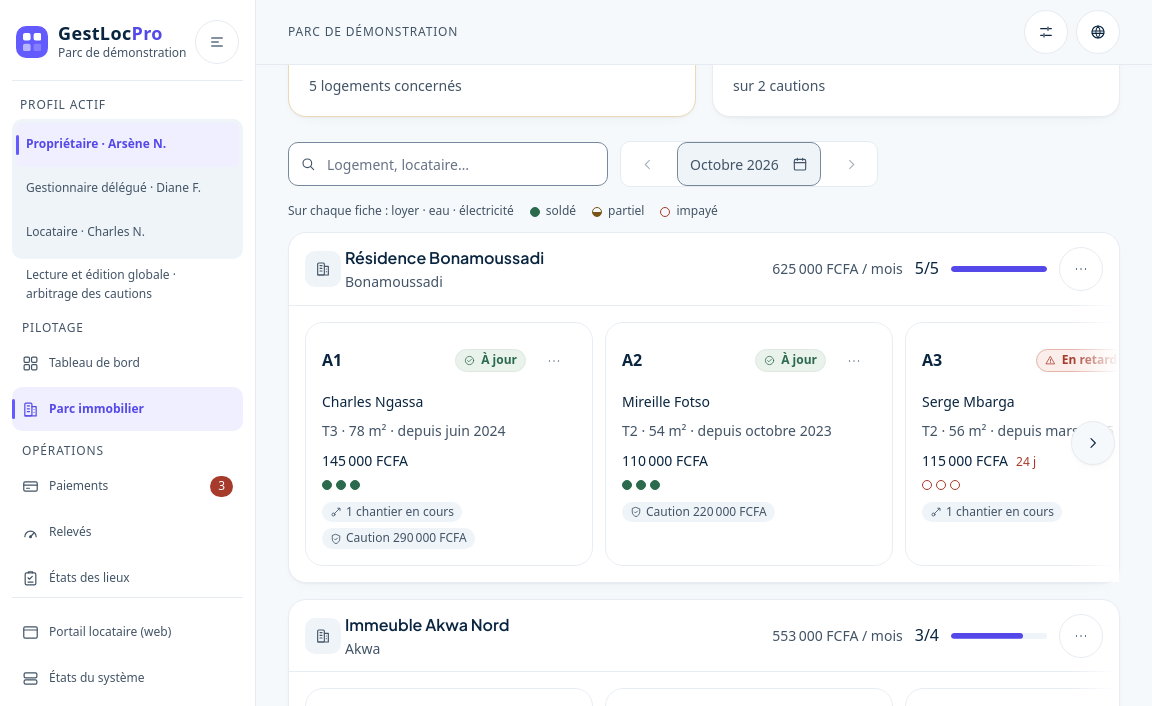
Test: le numéro d’un logement › refuse un numéro déjà pris À LA CORRECTION, sans aller-retour
(page scrolled)
Click the button named "Actions du logement A1": (554, 360) [532,338,576,382]
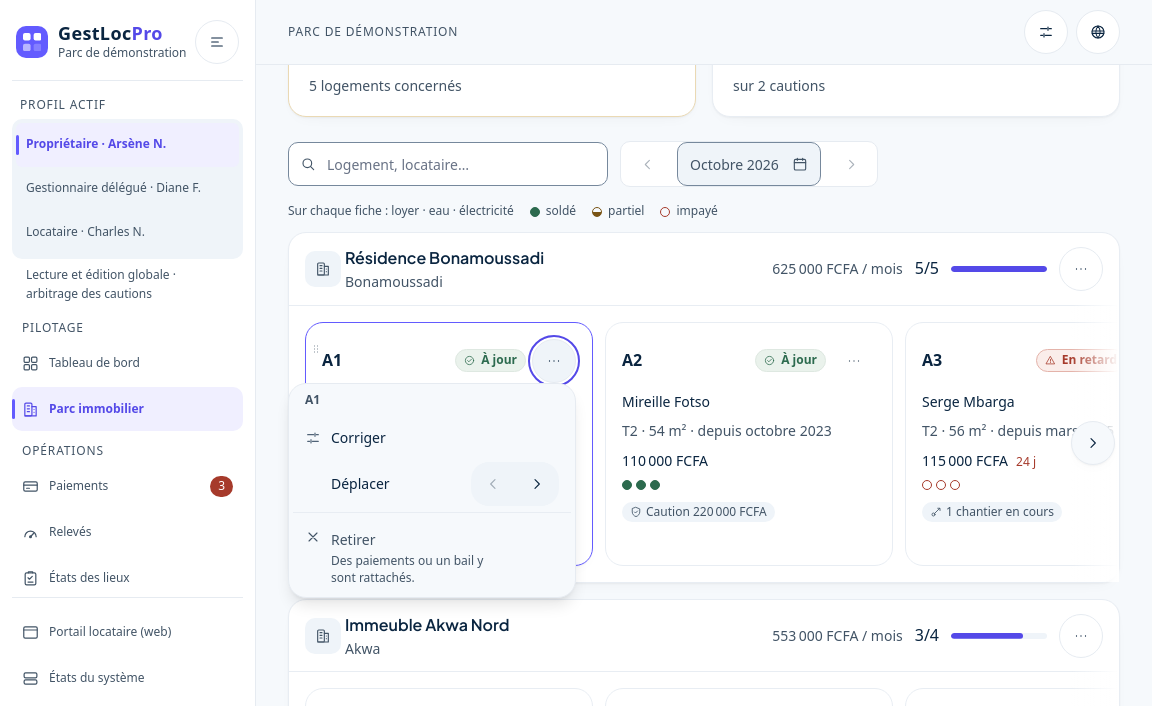
Click the menu item "Corriger": (358, 438) [293,416,571,460]
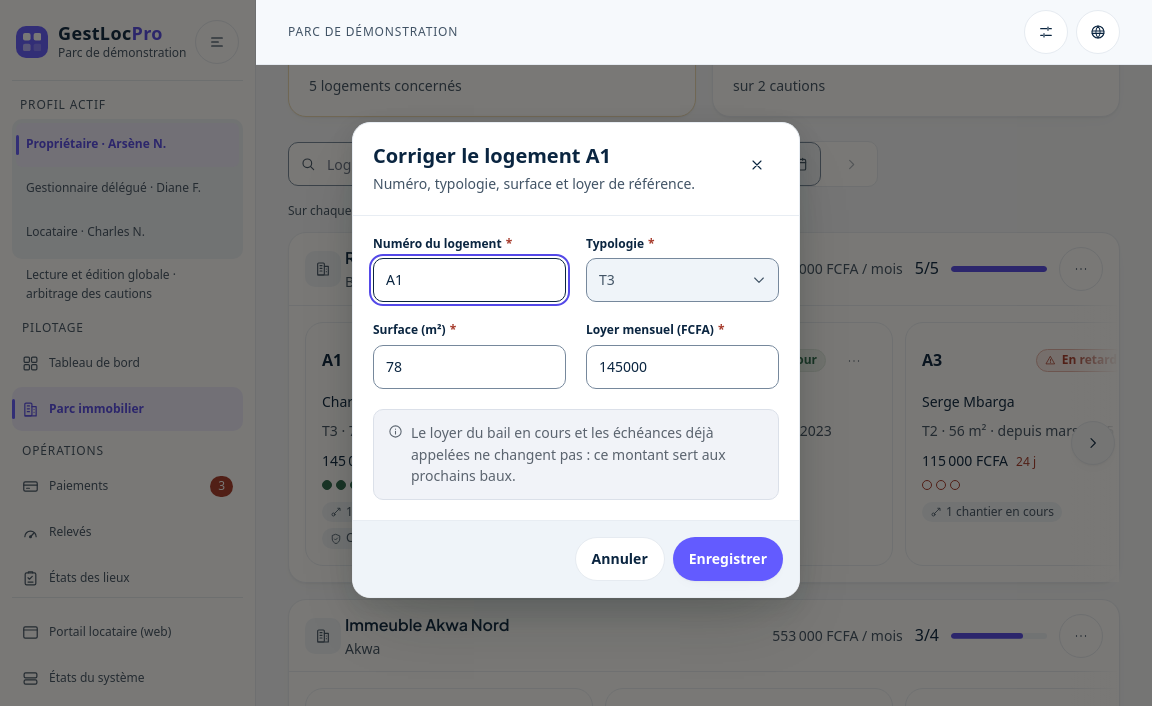
Replace the text in the field labelled "Numéro du logement*" with "A2": (470, 280) [373,258,566,302]
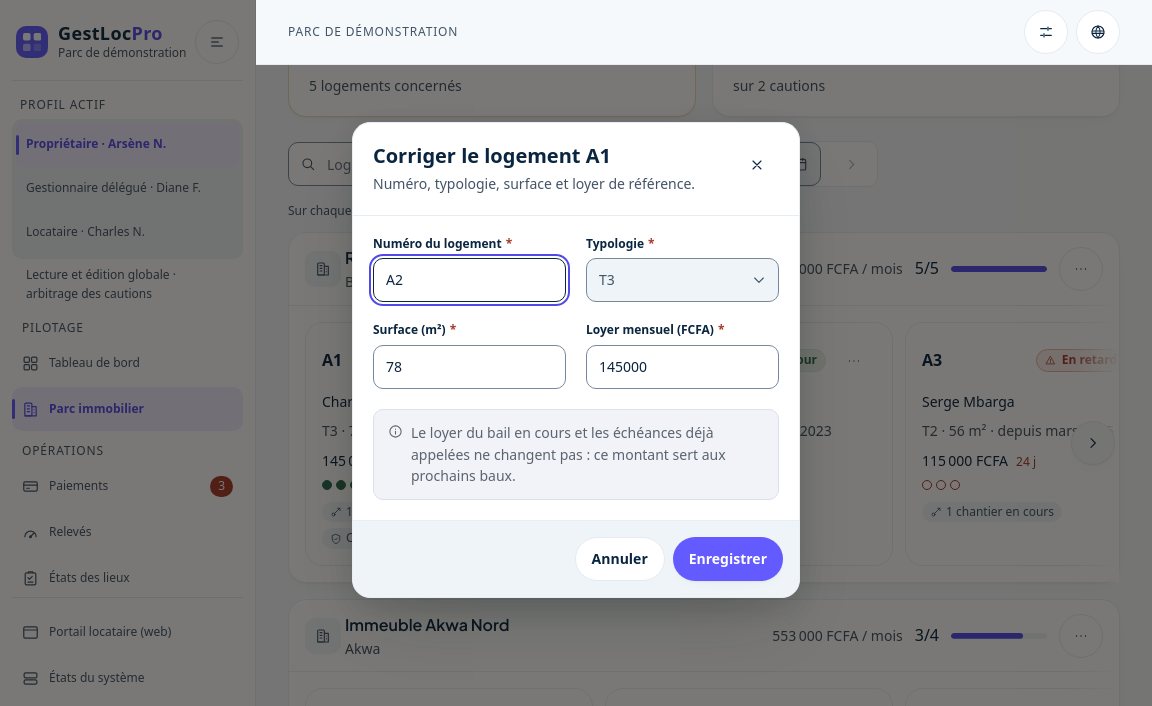
Click the button "Enregistrer": (728, 559) [673,537,783,581]
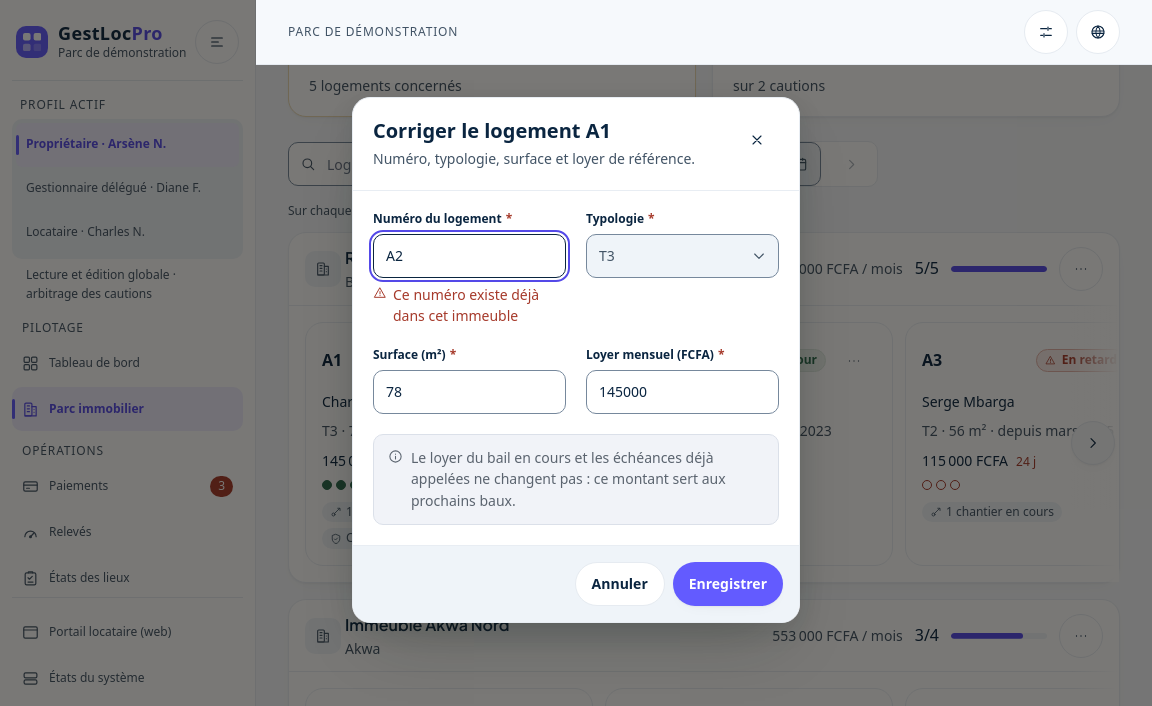
Now the text "Ce numéro existe déjà dans cet immeuble" is shown, box [373,284,566,327]
